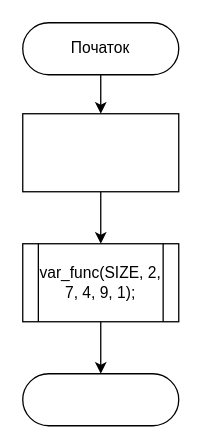
Some shapes in this 202 by 448 pixel diagram are drawn without their labels. Here are the shapes that lost their labels. From the top down, the centre of each, then its label:
point 100,152: int result;
point 100,399: Кінець
